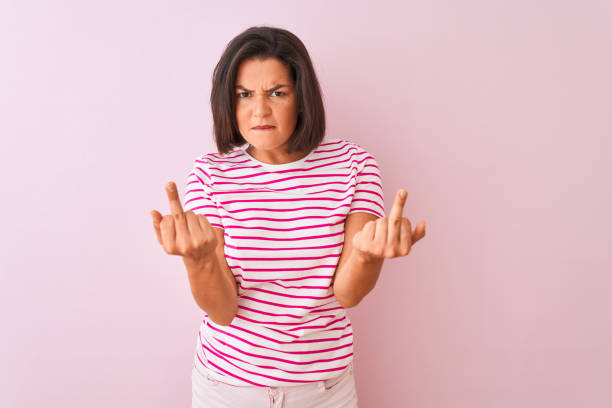insulting_gesture: (148, 183, 218, 265), (361, 187, 426, 261)
